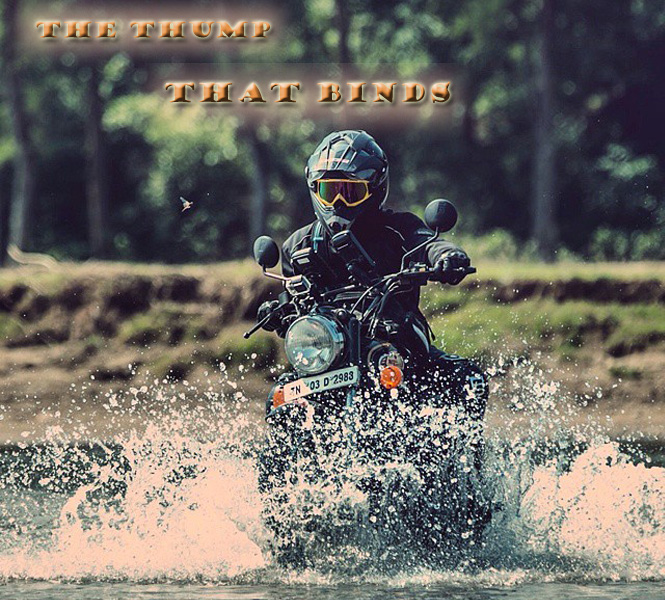helmet: (297, 135, 393, 238)
